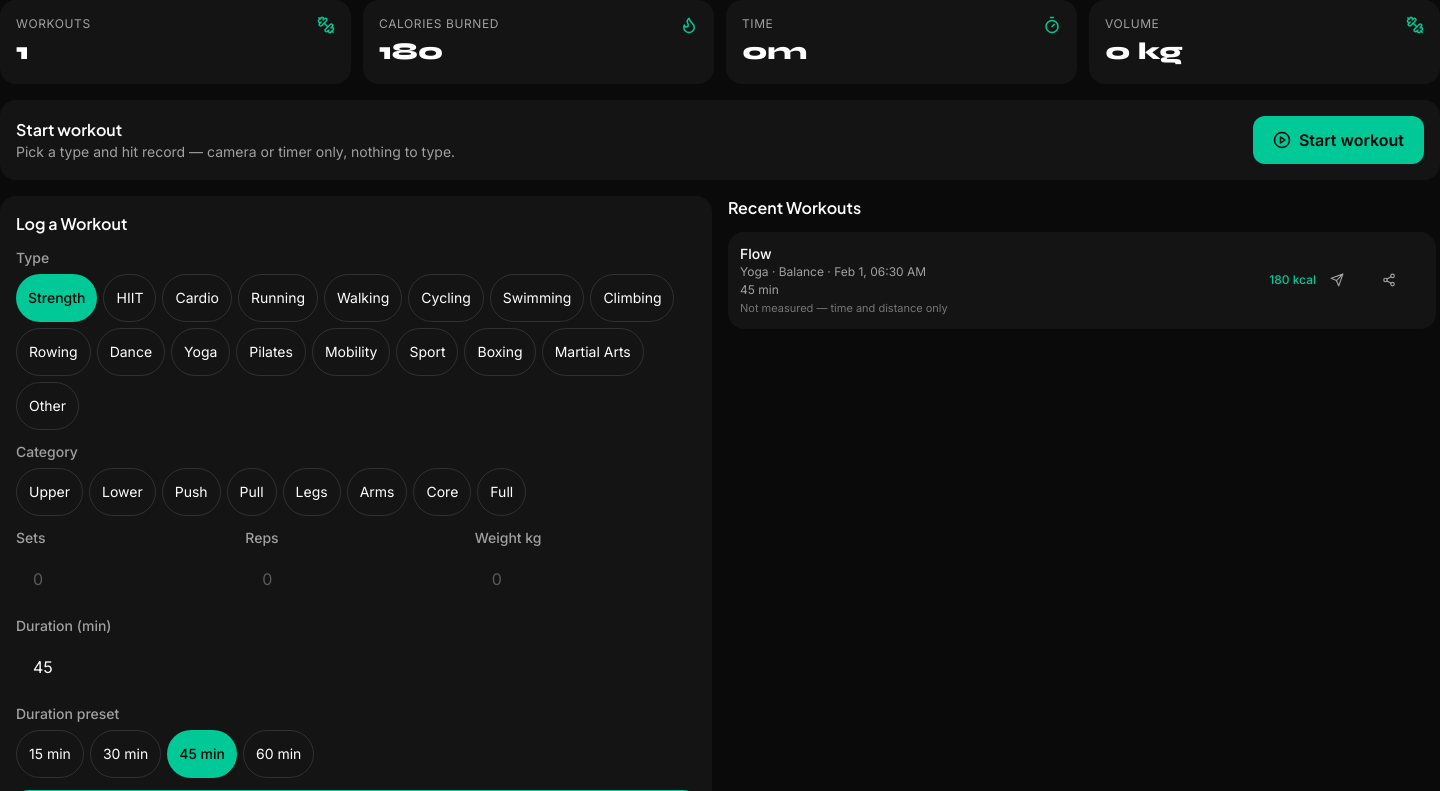
Scenario: WorkoutsTab share › copies the analytics link and confirms inline when there is no share sheet
Click the button named "Share Yoga workout". click: x=1400, y=280
box: [1376,256,1424,304]
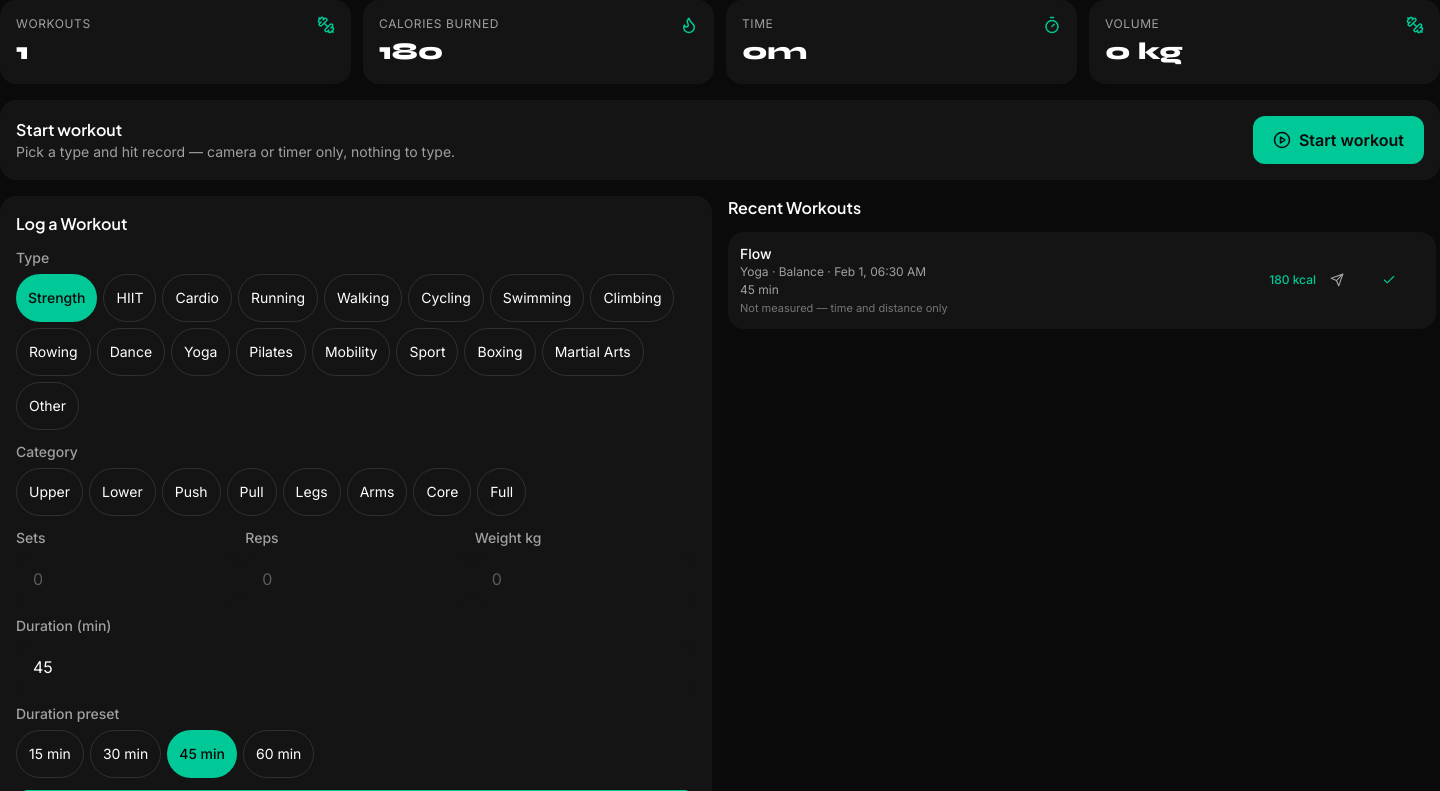
Expected: the button named "Link copied" is shown, [1376,256,1424,304]
